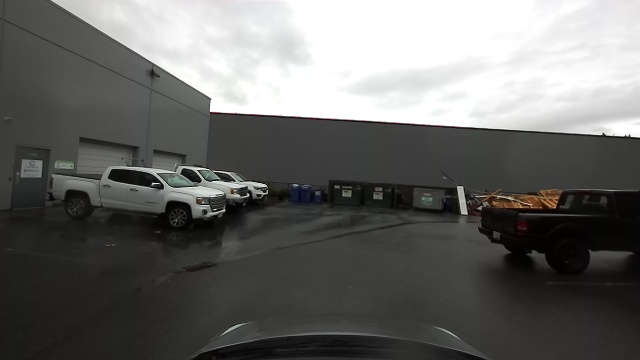car: (479, 186, 638, 278), (47, 166, 226, 229), (203, 174, 272, 211)
